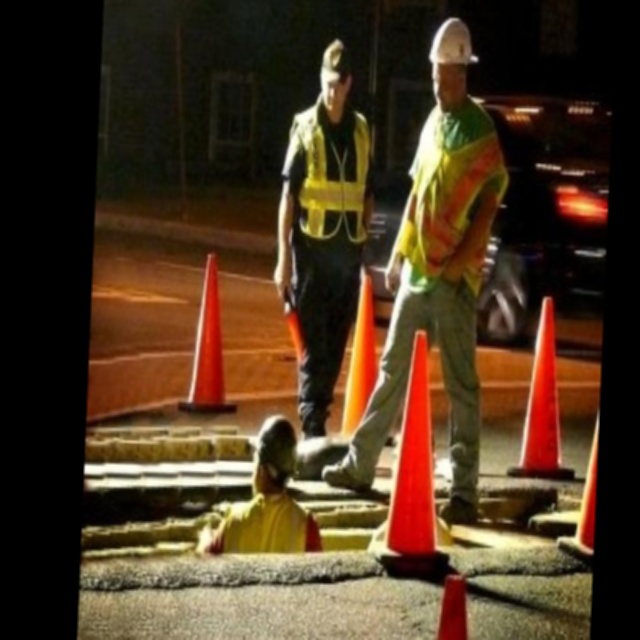Con_Casco: (428, 16, 478, 96)
Con_Chaleco: (410, 111, 509, 281), (291, 113, 372, 247)
